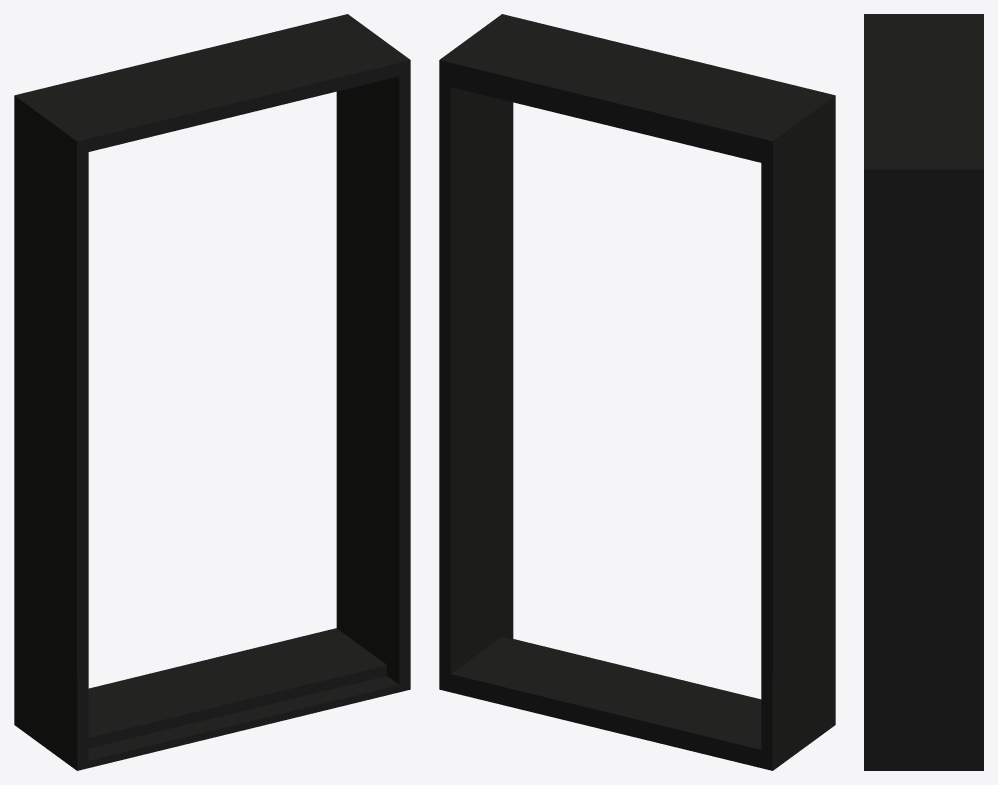
Rendered from Itr_Doorframe_06.FBX.
3 views of the same model, side by side, from view 1: azimuth 30°, elevation 25°; view 2: azimuth 150°, elevation 25°; view 3: azimuth 270°, elevation 25° (orthographic). The views are drawn at different scales.
Visible parts, largest first — view 1: Itr_Doorframe_06; view 2: Itr_Doorframe_06; view 3: Itr_Doorframe_06.
Boxes of the visible parts, bbox=[...] form: Itr_Doorframe_06: bbox=[14, 14, 410, 770]; Itr_Doorframe_06: bbox=[439, 14, 835, 770]; Itr_Doorframe_06: bbox=[864, 14, 983, 770].
Size of the model in its own units: 46.95 by 84.65 by 15.3.
